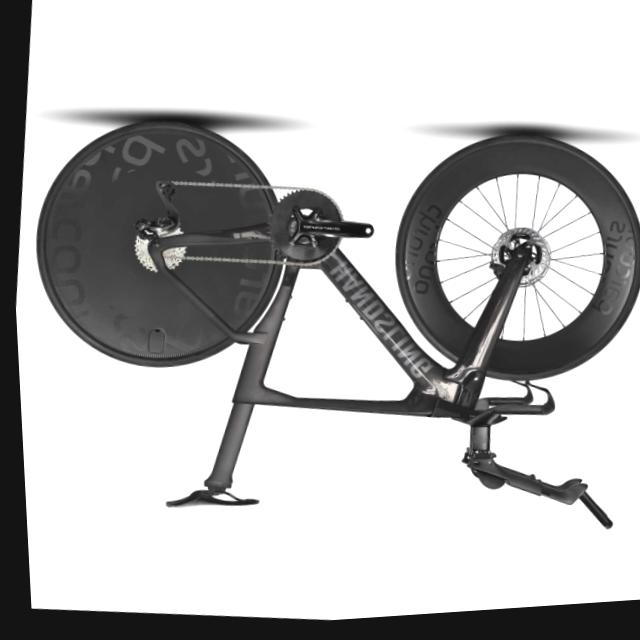TT-bike: (5, 80, 640, 571)
